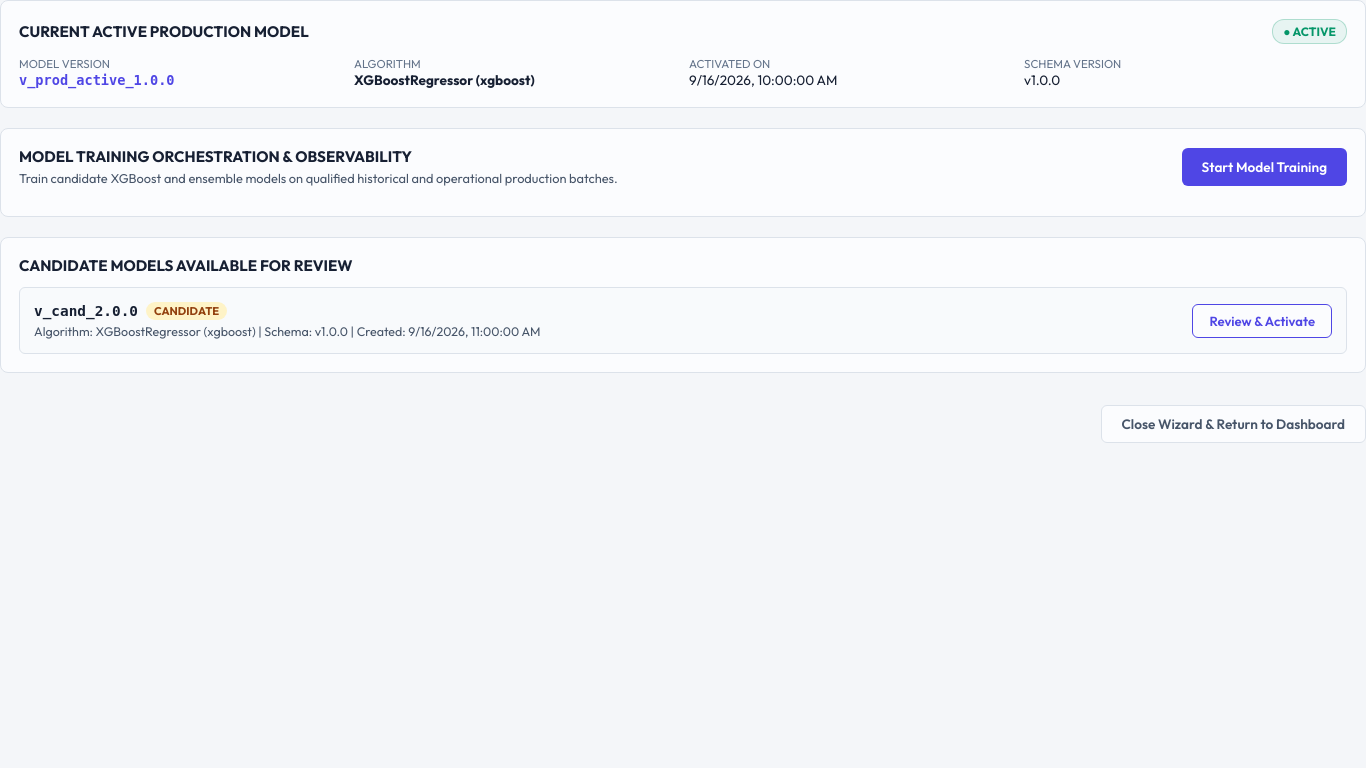
Scenario: Step6ModelTraining Component — Phase 13F / ML-6 Frontend Verification › 7. Activation failure (422) is safely handled leaving UI intact
This screenshot has width=1366, height=768.
Click the button "Review & Activate": [1262, 320] box [1192,304,1332,338]
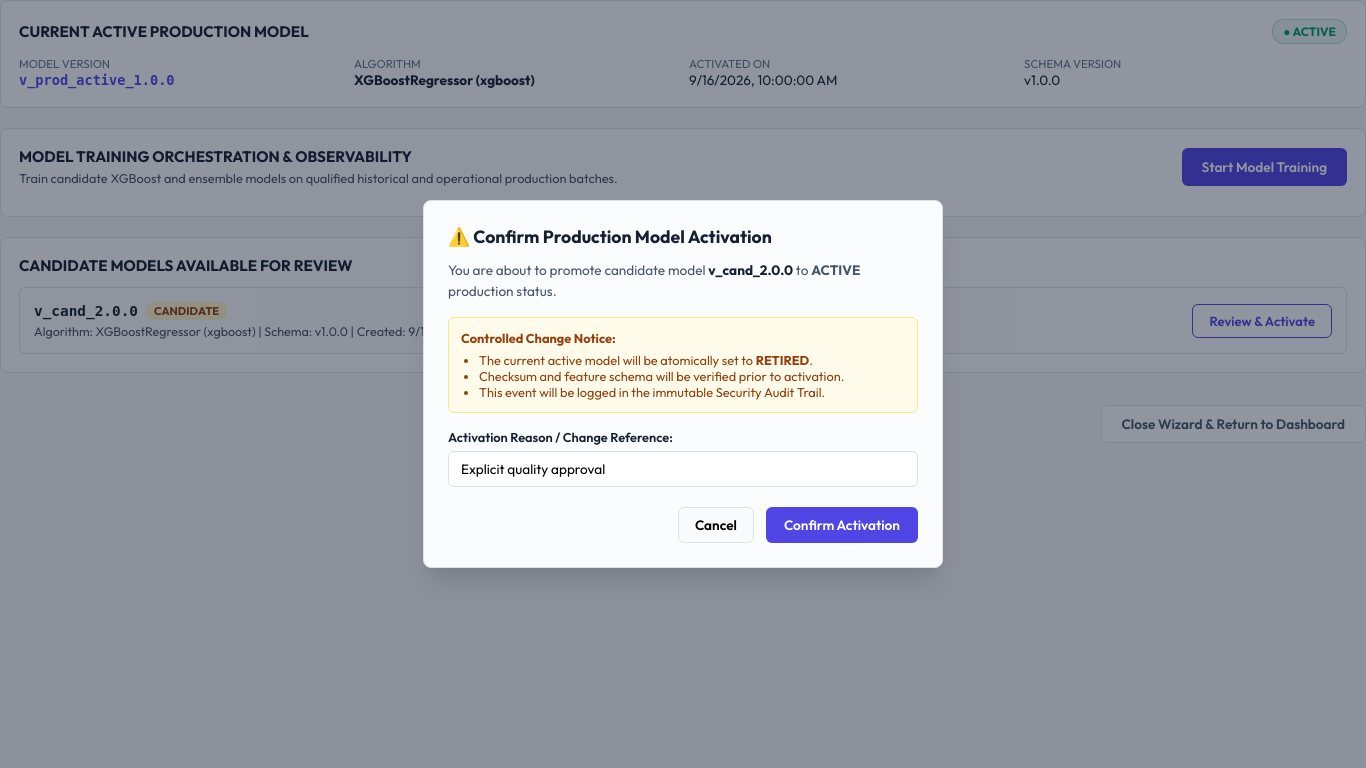
Click the button "Confirm Activation": [842, 525] box [766,507,918,543]
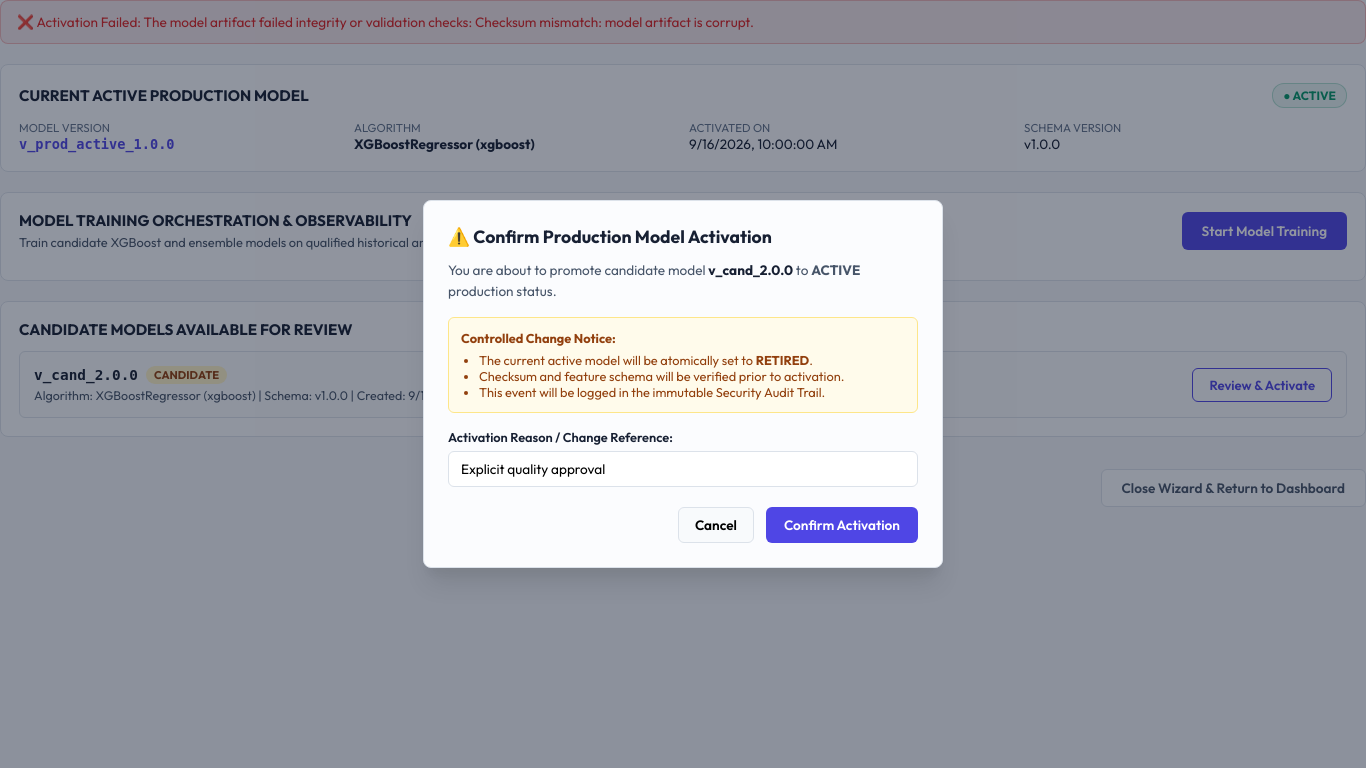
Now the text "Activation Failed: The model artifact failed integrity" is shown, box [36,13,754,31]
